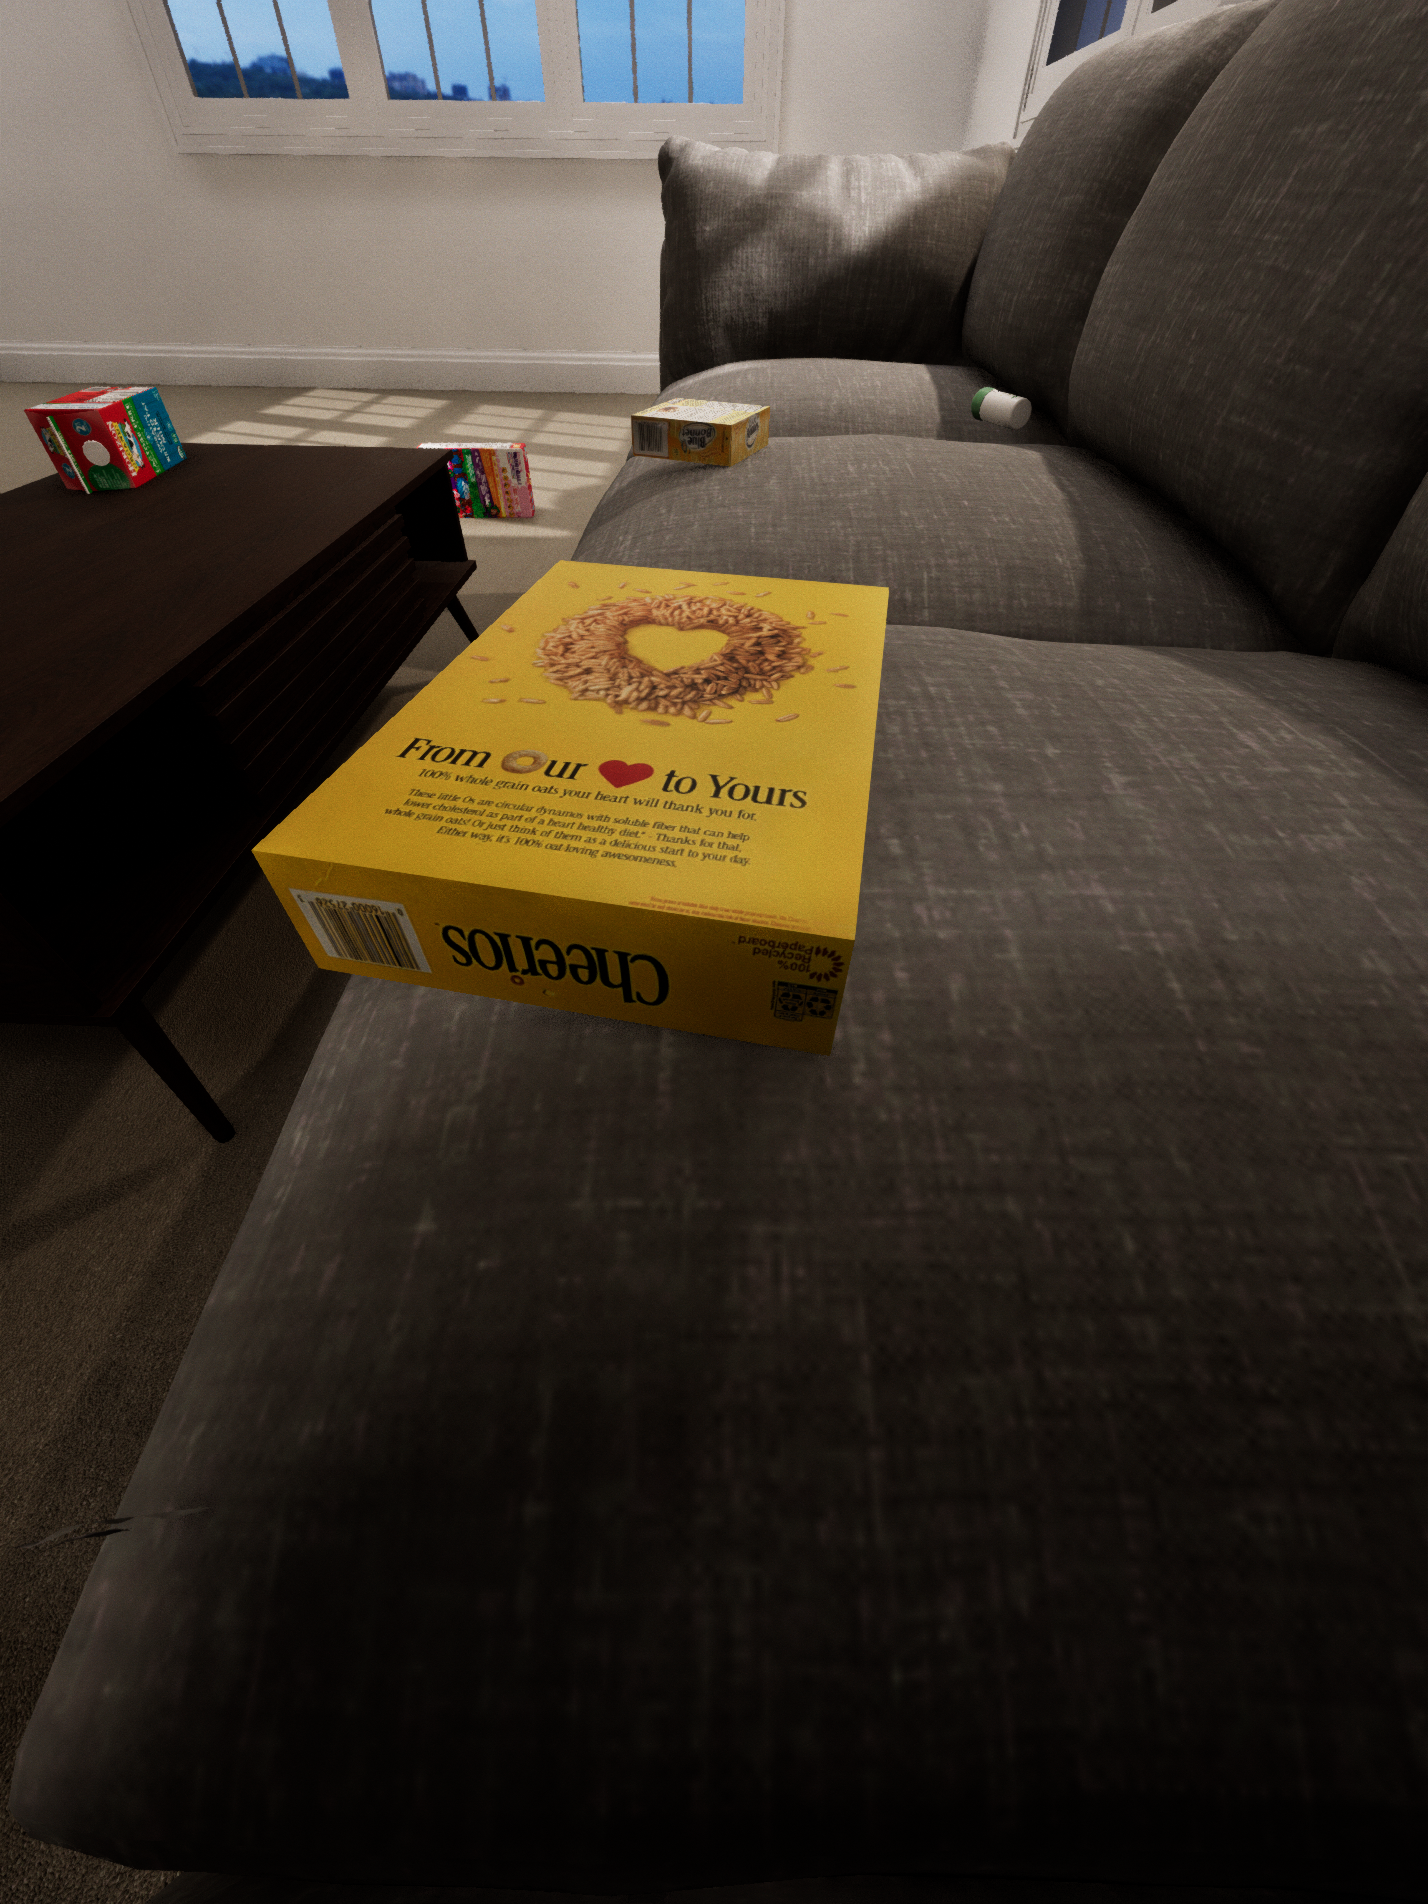soup: (489, 835, 742, 1037)
